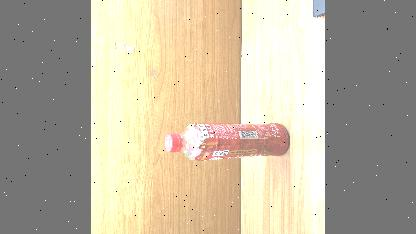Plastic Bottle: (164, 120, 289, 162)
